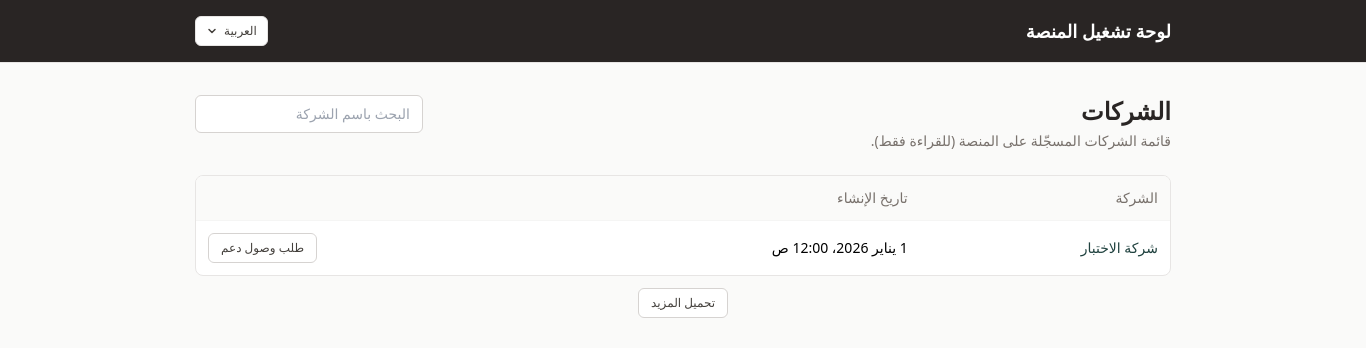
Scenario: <PlatformOrganizations/> › shows load-more when hasMore is true and appends the next page
The width and height of the screenshot is (1366, 348).
Click the button "تحميل المزيد" at (683, 303), box [638, 288, 728, 318]
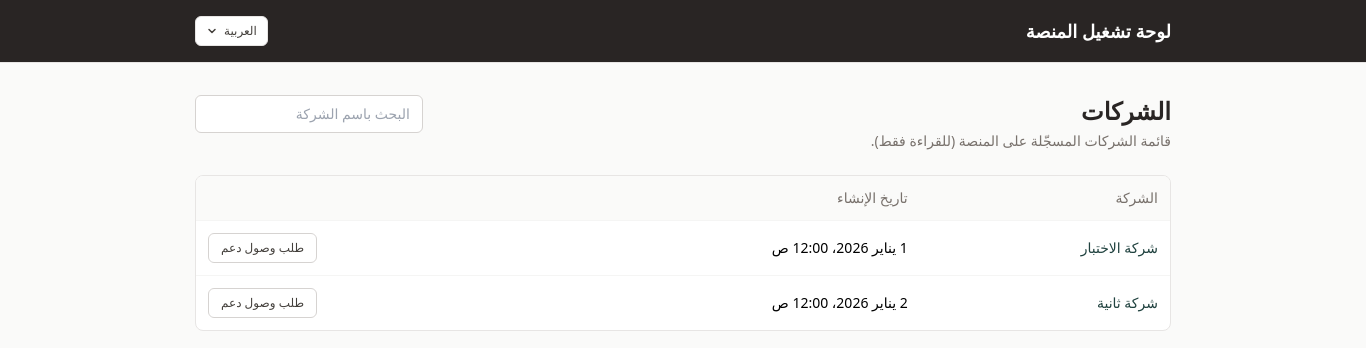
Expected: the link "شركة ثانية" is shown, [1097, 293, 1158, 312]
Expected: the button "تحميل المزيد" is gone
